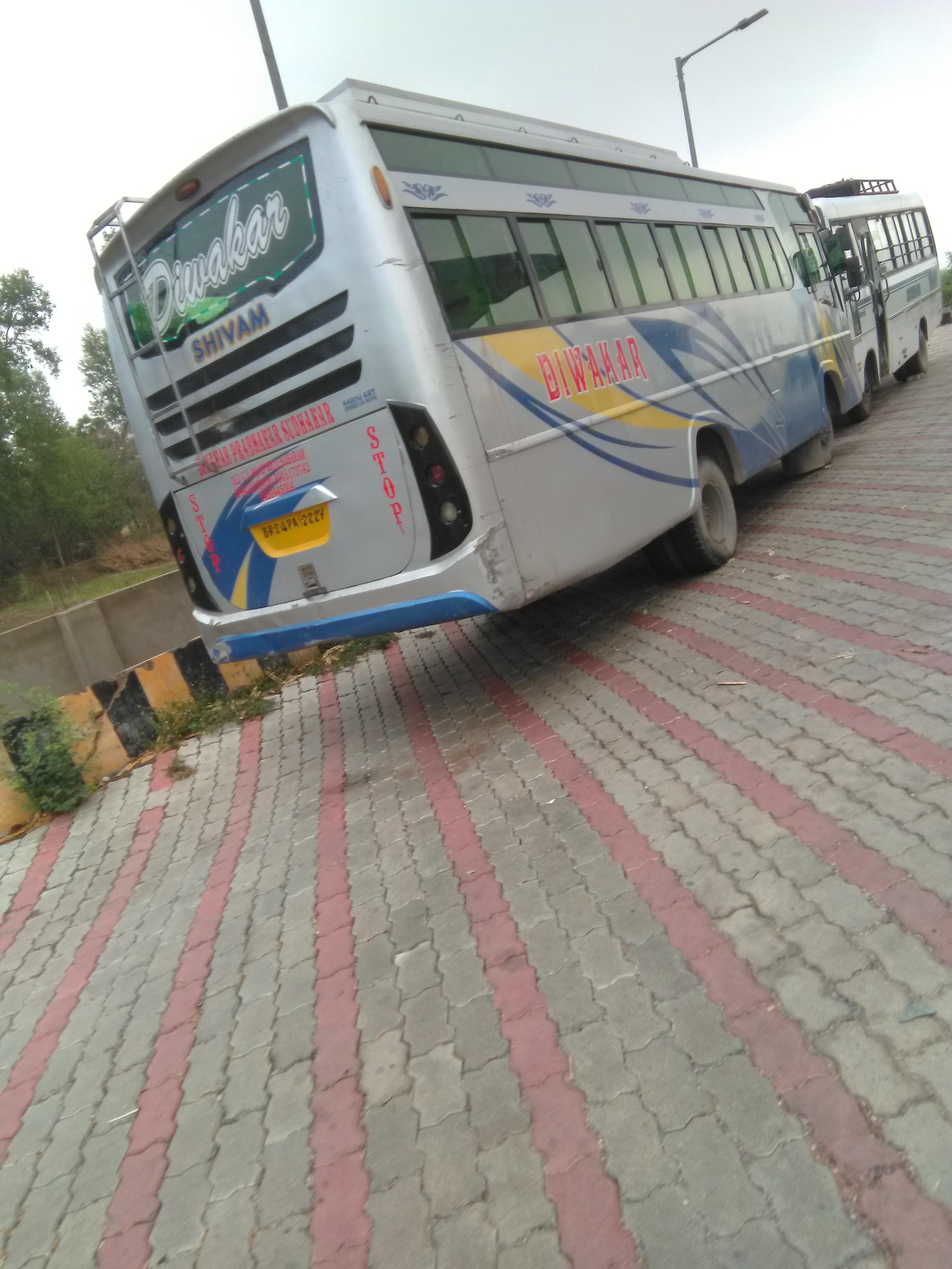Non-emergency: (71, 61, 936, 673)
